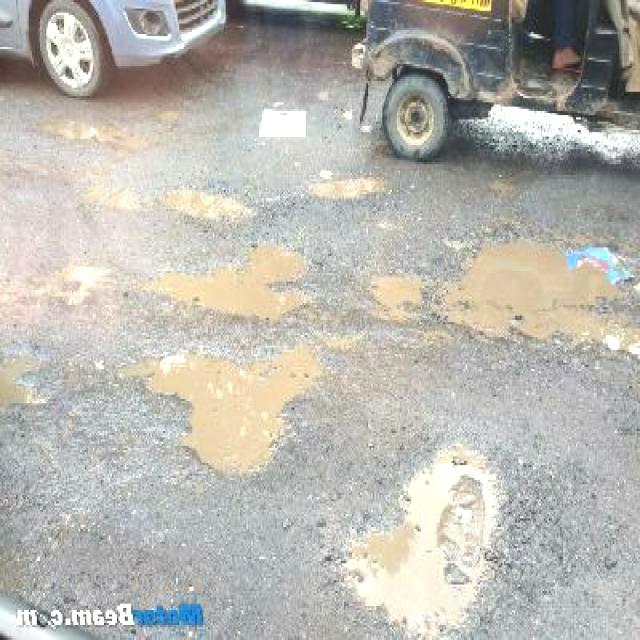Pothole: (336, 427, 517, 636), (432, 220, 640, 361), (141, 331, 330, 482), (144, 235, 317, 318), (158, 177, 251, 222), (365, 262, 430, 320), (2, 346, 53, 414), (306, 169, 387, 203)
